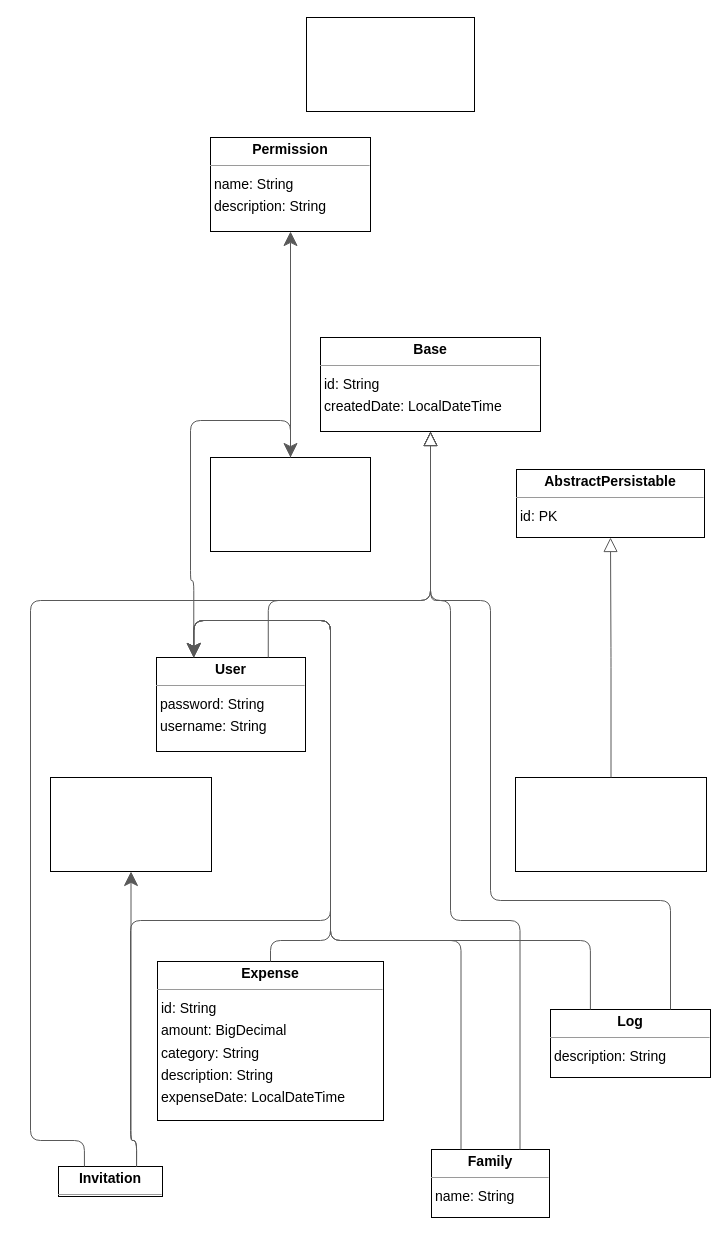
Some shapes in this 728 by 1235 pixel diagram are drawn without their labels. Here are the shapes that lost their labels. From the top down, the centre of each, then its label:
At (x=390, y=64): "InvalidatedToken id: String expiryTime: Date".
At (x=290, y=504): "Role name: String description: String".
At (x=131, y=824): "Status statusCode: String description: String".
At (x=610, y=824): "AbstractAuditable createdDate: Date lastModifiedDate: Date".
